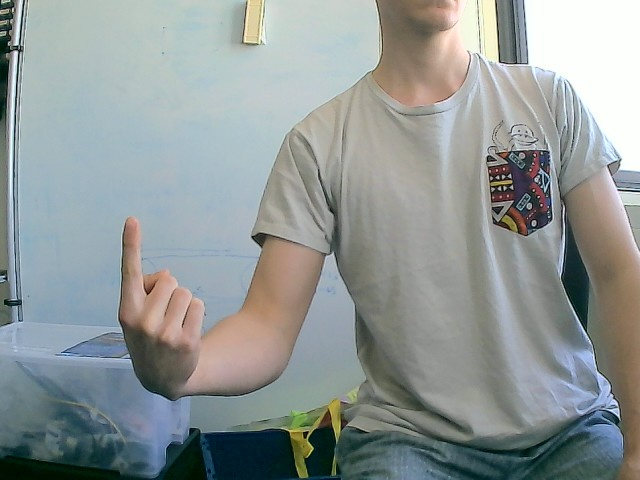up: (116, 215, 207, 401)
